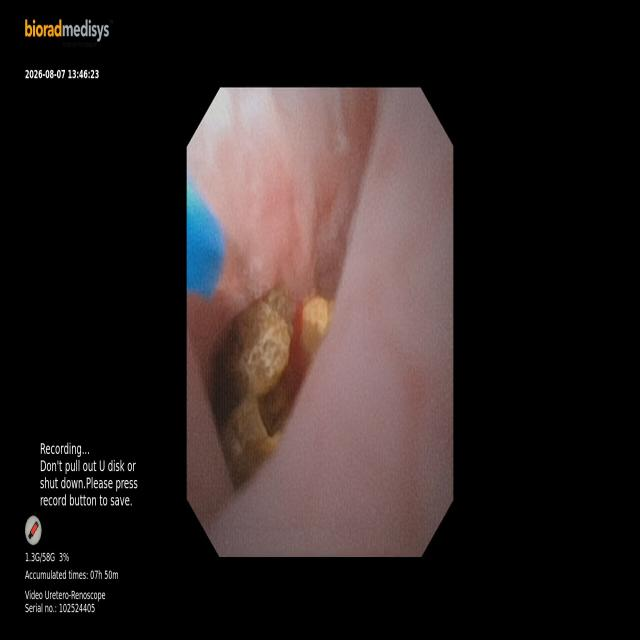laser-fibre: (217, 230, 253, 299)
stone-new: (239, 289, 292, 396), (223, 395, 278, 486), (300, 296, 332, 360)
